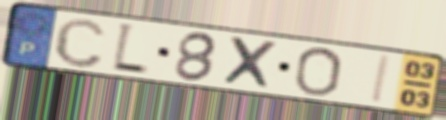8: (172, 30, 218, 83)
C: (51, 16, 109, 70)
I: (368, 53, 395, 106)
L: (109, 20, 152, 78)
O: (291, 46, 346, 97)
X: (220, 35, 281, 92)
